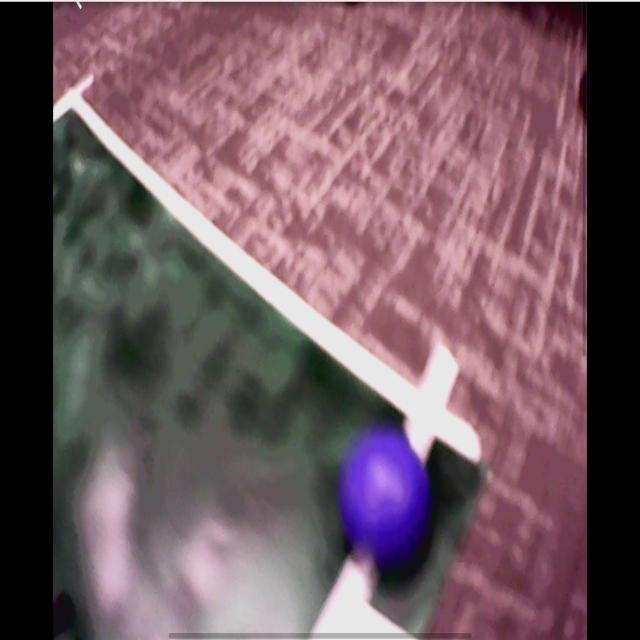ball: (342, 433, 428, 557)
